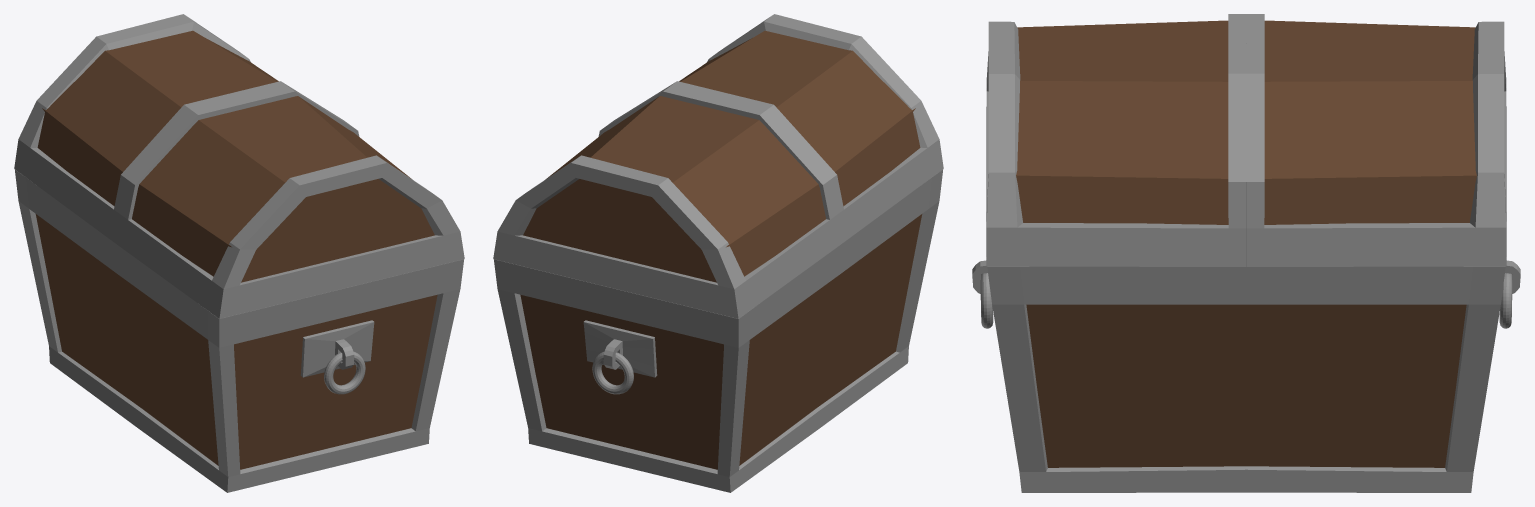
Rendered from chest.fbx.
3 renders of one model, left to right at view 1: azimuth 30°, elevation 25°; view 2: azimuth 150°, elevation 25°; view 3: azimuth 270°, elevation 25°, orthographic. The views are drawn at different scales.
Visible parts, largest first — view 1: Lid, Chest, LidMetal, ChestMetal, Ear; view 2: Lid, Chest, LidMetal, ChestMetal, Ear; view 3: Lid, Chest, LidMetal, ChestMetal, Ear.
Boxes of the visible parts, x1,y1,x2,y2 form: Lid: (37, 30, 434, 282); Chest: (35, 214, 437, 469); LidMetal: (14, 14, 464, 318); ChestMetal: (14, 169, 463, 492); Ear: (300, 320, 374, 394); Lid: (523, 30, 920, 282); Chest: (520, 214, 922, 469); LidMetal: (493, 14, 943, 318); ChestMetal: (494, 169, 943, 492); Ear: (583, 320, 657, 394); Lid: (1016, 20, 1476, 224); Chest: (1026, 304, 1466, 467); LidMetal: (986, 14, 1506, 266); ChestMetal: (987, 266, 1505, 492); Ear: (972, 260, 1520, 328).
Bounding box in the file's own units: 4.72 × 3.68 × 3.09.
